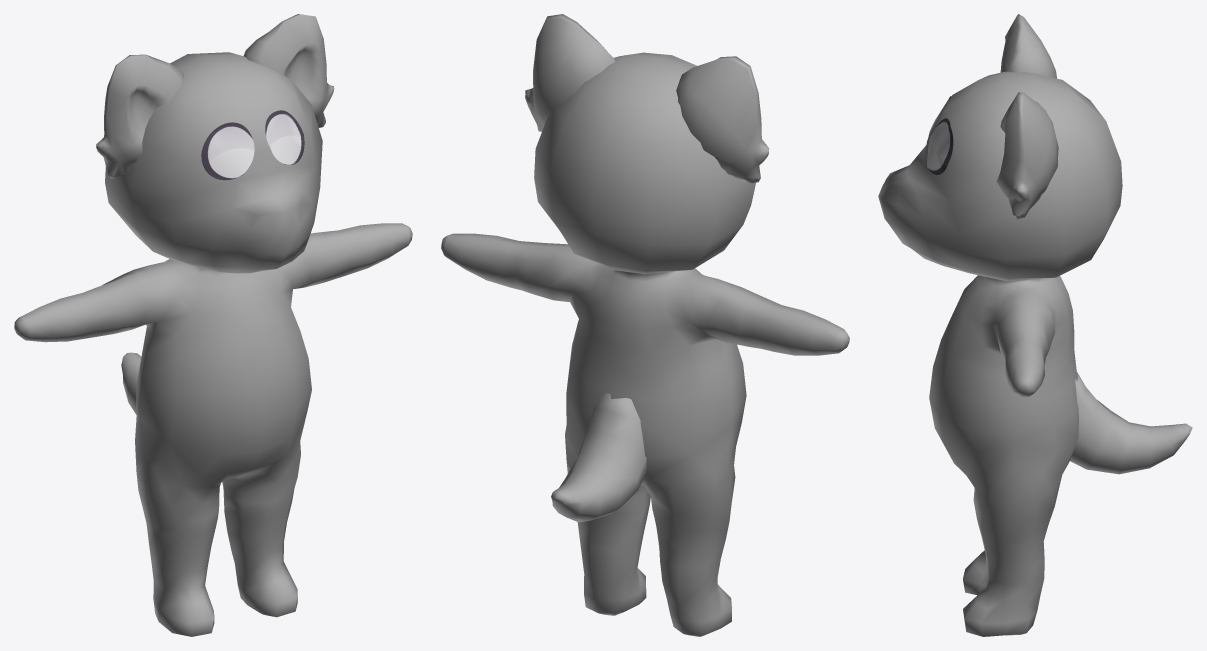
The model's file is Dog.fbx.
The picture shows the model from 3 angles, left to right: view 1: azimuth 30°, elevation 25°; view 2: azimuth 150°, elevation 25°; view 3: azimuth 270°, elevation 25°; orthographic projection. The views are drawn at different scales.
Visible parts, largest first — view 1: RIG:Creature_Dog_Low1, RIG:Dog_Eye_R, RIG:Dog_Eye_L; view 2: RIG:Creature_Dog_Low1; view 3: RIG:Creature_Dog_Low1, RIG:Dog_Eye_L.
Part boxes in pixels (bbox=[...]): RIG:Creature_Dog_Low1: bbox=[14, 14, 412, 636]; RIG:Dog_Eye_R: bbox=[201, 122, 254, 180]; RIG:Dog_Eye_L: bbox=[265, 110, 304, 164]; RIG:Creature_Dog_Low1: bbox=[441, 14, 849, 636]; RIG:Creature_Dog_Low1: bbox=[878, 14, 1192, 636]; RIG:Dog_Eye_L: bbox=[926, 118, 953, 174].
Bounding box in the file's own units: 138 × 191 × 97.78.
2 materials, 1 textured.
